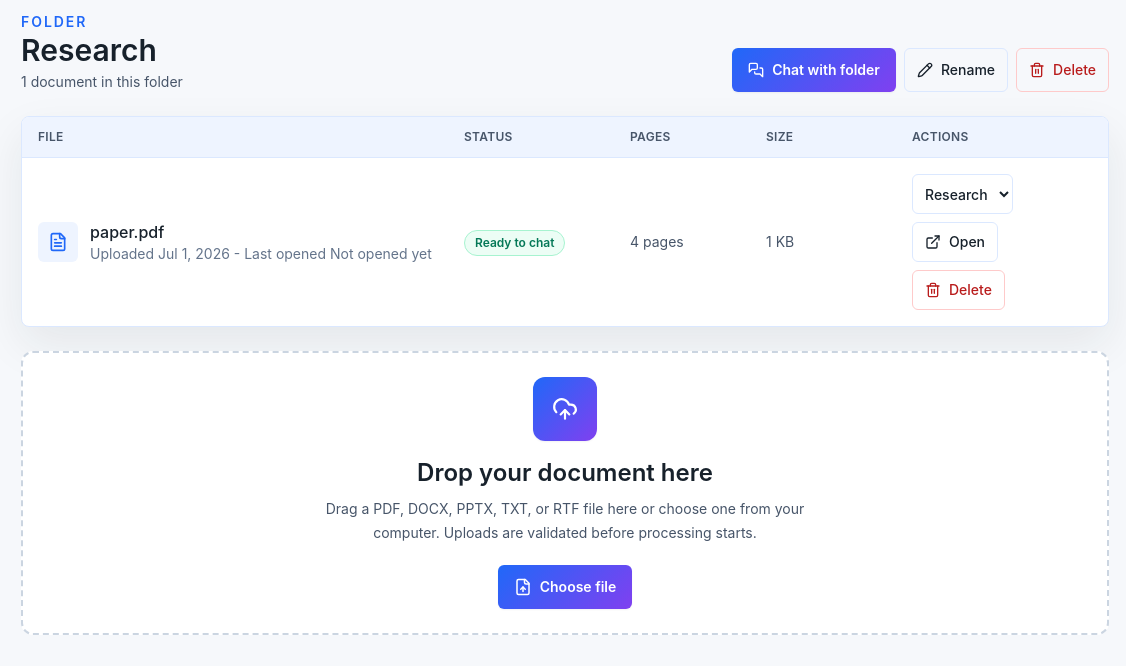
Test: FolderView › renames the folder inline
Expected: the heading "Research" is shown, [21, 32, 157, 68]
Click the button "Rename" at (956,70), box [904, 48, 1008, 92]
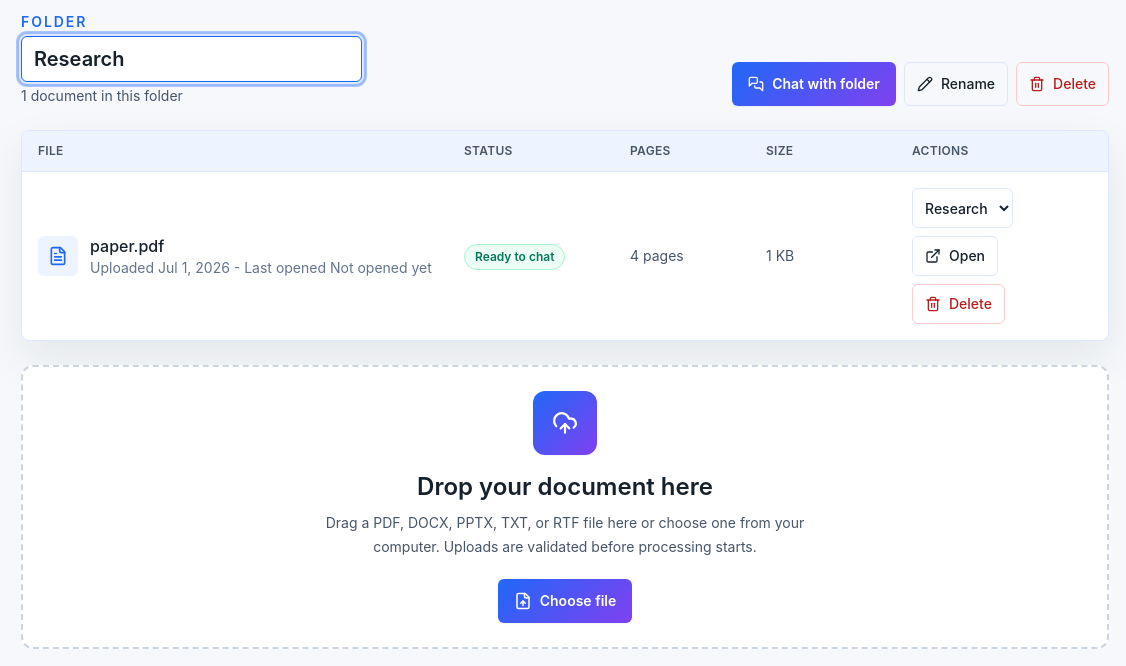
Replace the text in the field named "Folder name for Research" with "Papers" at (192,59), box [21, 36, 362, 82]
Then press Enter
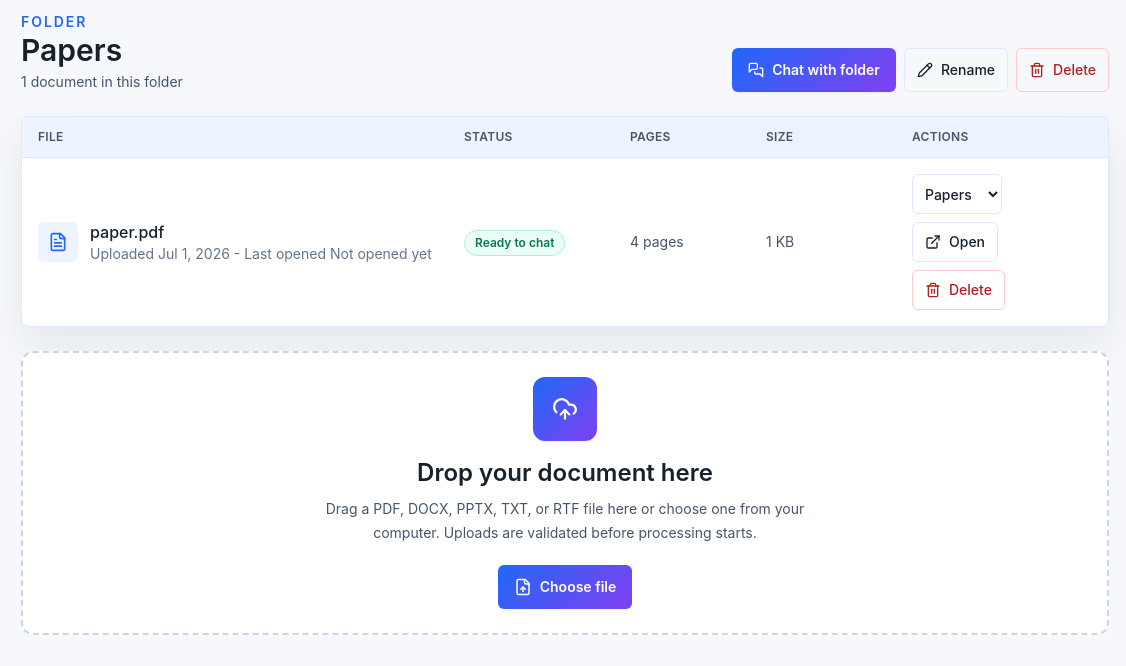
Result: the heading "Papers" is shown at [21, 32, 122, 68]
